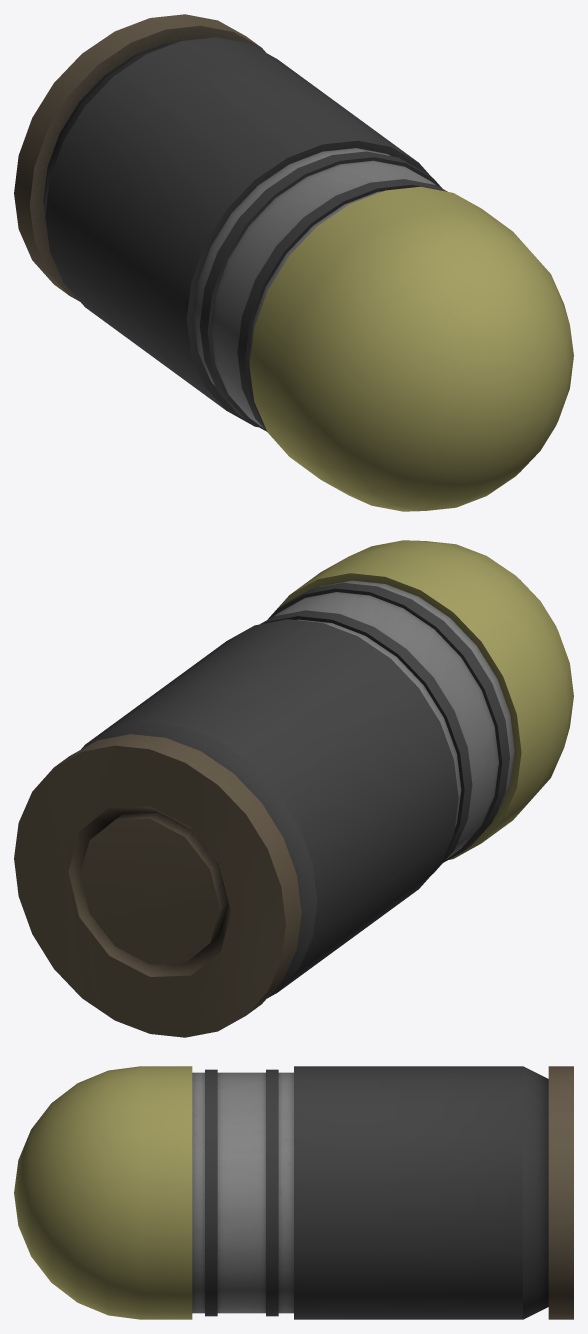
The model's file is grenade_launcher_projectile.fbx.
3 renders of one model, top to bottom at view 1: azimuth 30°, elevation 25°; view 2: azimuth 150°, elevation 25°; view 3: azimuth 270°, elevation 25°, orthographic. The views are drawn at different scales.
Parts seen in each view (by area): view 1: grenade_launcher_projectile; view 2: grenade_launcher_projectile; view 3: grenade_launcher_projectile.
Boxes of the visible parts, left/top/right/bottom form: grenade_launcher_projectile: left=14, top=14, right=573, bottom=511; grenade_launcher_projectile: left=14, top=540, right=573, bottom=1037; grenade_launcher_projectile: left=14, top=1066, right=573, bottom=1319.
Size of the model in its own units: 12.5 by 12.5 by 27.5.
